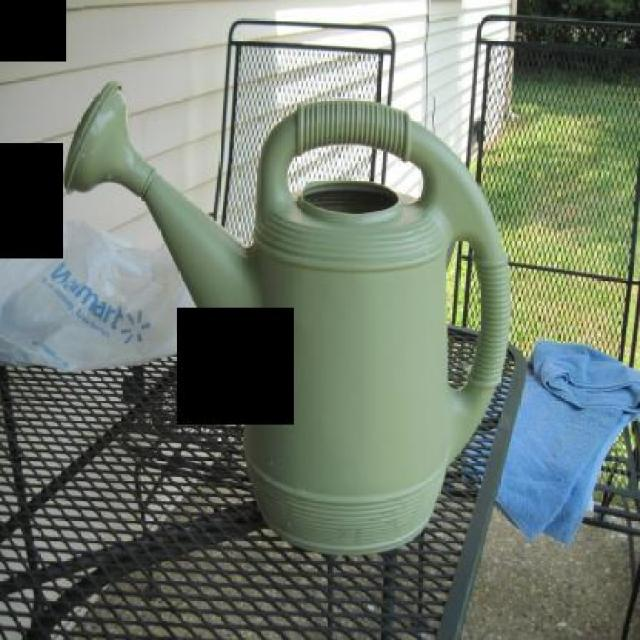plastic bag: (0, 218, 217, 369)
